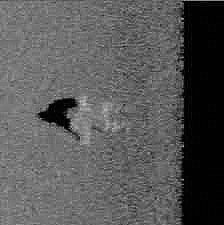man: (64, 94, 128, 146)
